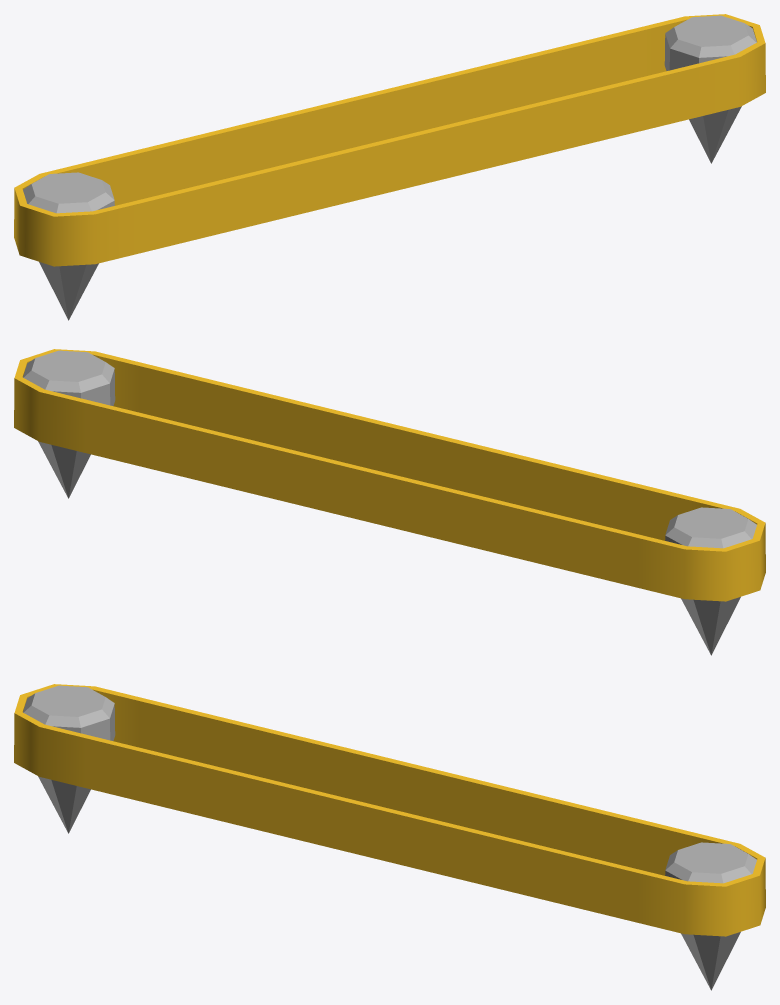
File: Elastic Band Small Yellow.fbx
The picture shows the model from 3 angles, top to bottom: view 1: azimuth 30°, elevation 25°; view 2: azimuth 150°, elevation 25°; view 3: azimuth 330°, elevation 25°; orthographic projection.
Parts seen in each view (by area): view 1: Band.013, Pegs.013; view 2: Band.013, Pegs.013; view 3: Band.013, Pegs.013.
Part boxes in pixels (bbox=[...]): Band.013: bbox=[14, 14, 765, 266]; Pegs.013: bbox=[23, 15, 756, 320]; Band.013: bbox=[14, 349, 765, 601]; Pegs.013: bbox=[23, 350, 756, 655]; Band.013: bbox=[14, 684, 765, 936]; Pegs.013: bbox=[23, 685, 756, 990].
Bounding box in the file's own units: 0.5559 × 0.0952 × 0.0727.
